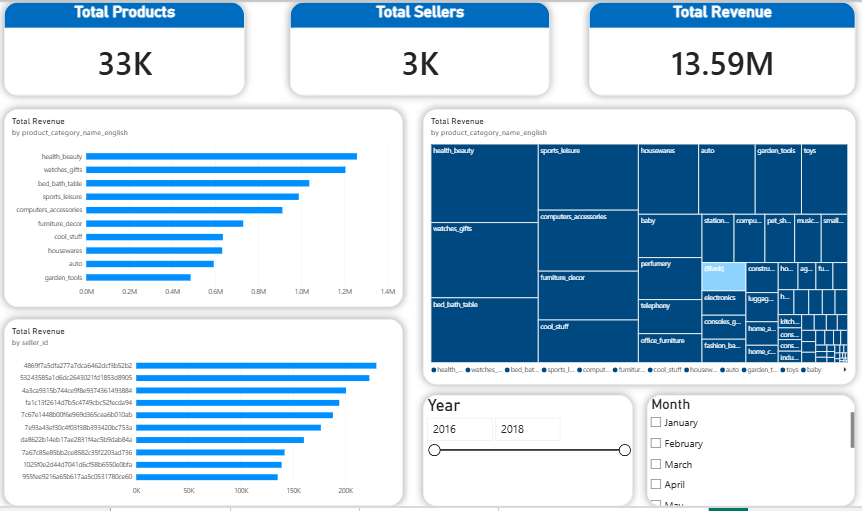

The dashboard page shown, as its layout file describes it:
{"tool":"powerbi","page":{"name":"Products & Sellers","canvas":[1920,1080],"ordinal":2},"visuals":[{"type":"cardVisual","title":"Total Products","fields":{"Data":["Measures (2).Total Products"]},"box":[44.7,0,515.1,200.1],"z":0},{"type":"cardVisual","title":"Total Sellers","fields":{"Data":["Measures (2).Toyal Sellers"]},"box":[657.7,0,555.6,200.1],"z":1},{"type":"cardVisual","title":"Total Revenue","fields":{"Data":["Measures (2).Total Revenue"]},"box":[1296.3,0,570.5,200.1],"z":2},{"type":"clusteredBarChart","fields":{"Category":["DimCategory.product_category_name_english"],"Y":["Measures (2).Total Revenue"]},"box":[44.7,229.9,853.6,423.6],"z":3},{"type":"clusteredBarChart","fields":{"Category":["DimSellers.seller_id"],"Y":["Measures (2).Total Revenue"]},"box":[44.7,679,853.6,400.2],"z":4},{"type":"treemap","fields":{"Group":["DimCategory.product_category_name_english"],"Values":["Measures (2).Total Revenue"]},"box":[940.8,229.9,925.9,589.6],"z":5},{"type":"slicer","fields":{"Values":["DimDate.Year"]},"box":[940.8,840.8,449.1,238.4],"z":6},{"type":"slicer","fields":{"Values":["DimDate.Month"]},"box":[1421.9,840.8,444.9,238.4],"z":7}]}

Visuals, with their boxes on the page's 1920x1080 design canvas (x1, y1, x2, y2). These are canvas units, not pixel positions in the 862x511 screenshot, which may show the page scaled, cropped or inside an application window:
"Total Products" cardVisual: (45, 0, 560, 200)
"Total Sellers" cardVisual: (658, 0, 1213, 200)
"Total Revenue" cardVisual: (1296, 0, 1867, 200)
clusteredBarChart - DimCategory.product_category_name_english x Measures (2).Total Revenue: (45, 230, 898, 654)
clusteredBarChart - DimSellers.seller_id x Measures (2).Total Revenue: (45, 679, 898, 1079)
treemap - DimCategory.product_category_name_english x Measures (2).Total Revenue: (941, 230, 1867, 820)
slicer - DimDate.Year: (941, 841, 1390, 1079)
slicer - DimDate.Month: (1422, 841, 1867, 1079)
